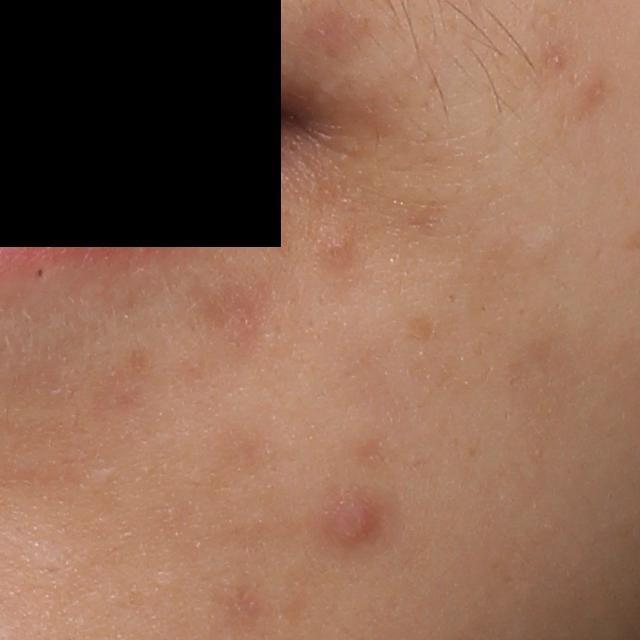papule: (330, 498, 388, 547)
